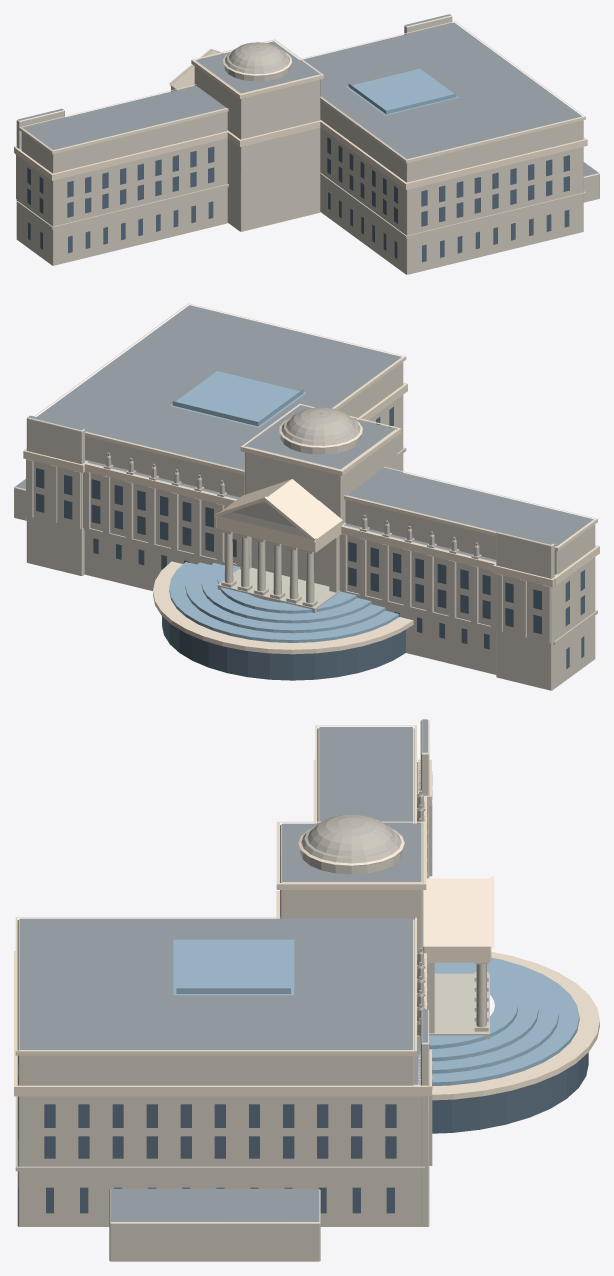
File: nyc-brooklyn-museum.glb
3 views of the same model, one above another, from view 1: azimuth 30°, elevation 25°; view 2: azimuth 150°, elevation 25°; view 3: azimuth 270°, elevation 25° (orthographic). The views are drawn at different scales.
Visible parts, largest first — view 1: Brooklyn Museum; view 2: Brooklyn Museum; view 3: Brooklyn Museum.
Part boxes in pixels (left/top/right/bottom): Brooklyn Museum: left=14, top=14, right=599, bottom=274; Brooklyn Museum: left=14, top=303, right=599, bottom=690; Brooklyn Museum: left=14, top=719, right=599, bottom=1261.
Bounding box in the file's own units: 166 × 52 × 114.
